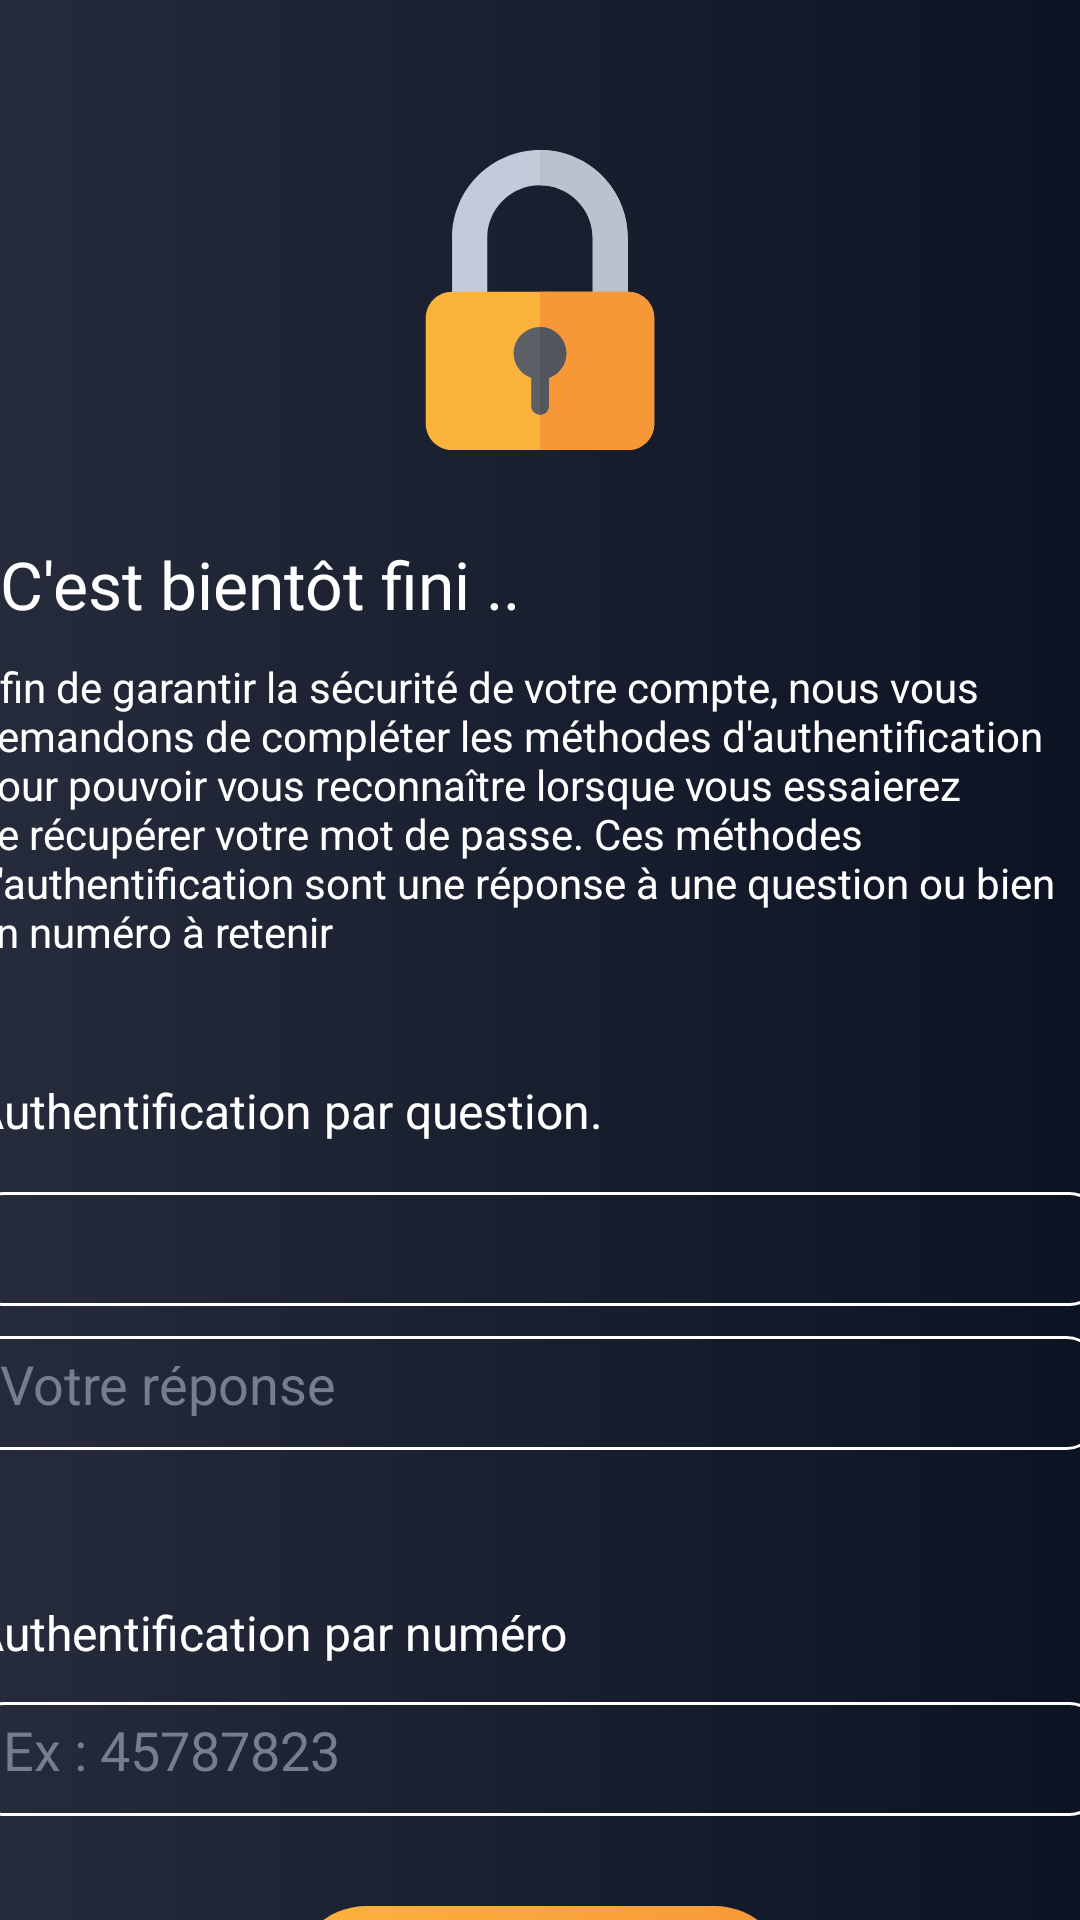

Named icons in this screenshot (1080px x 1920px) and their bounding boxes, (x1, y1, x2, y2):
padlock: (425, 150, 655, 450)
